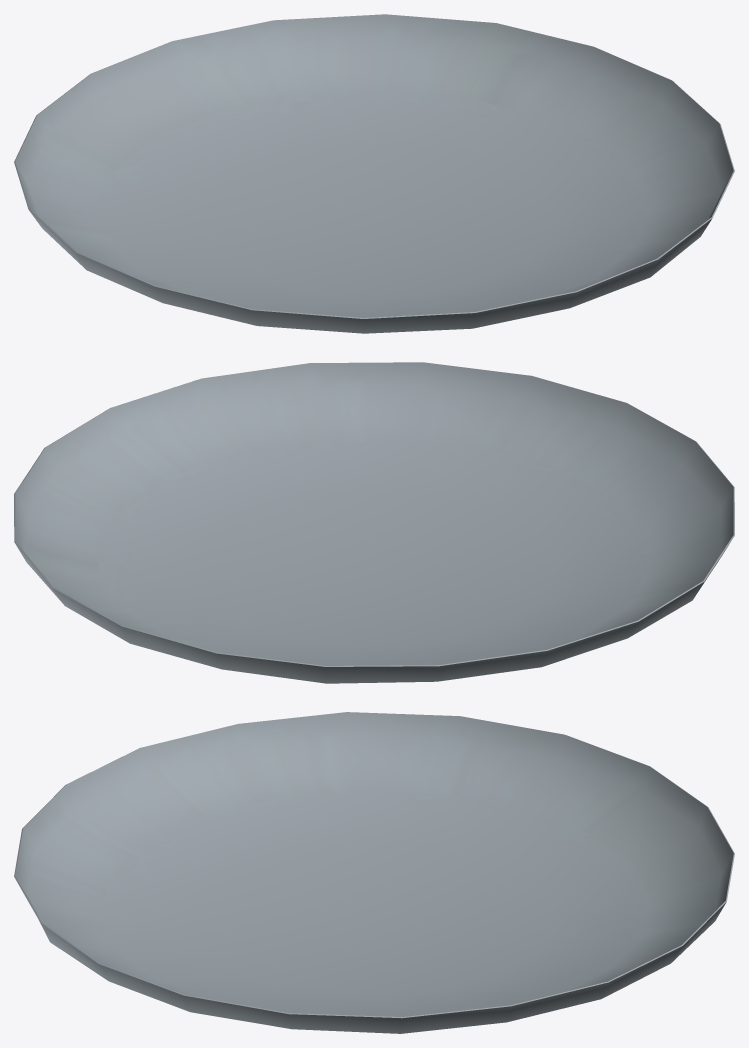
Rendered from FanHuiCang-DiBan.FBX.
The picture shows the model from 3 angles, top to bottom: view 1: azimuth 30°, elevation 25°; view 2: azimuth 150°, elevation 25°; view 3: azimuth 270°, elevation 25°; orthographic projection.
Parts seen in each view (by area): view 1: FanHuiCang-DiBan; view 2: FanHuiCang-DiBan; view 3: FanHuiCang-DiBan.
Boxes of the visible parts, bbox=[...] form: FanHuiCang-DiBan: bbox=[14, 14, 734, 333]; FanHuiCang-DiBan: bbox=[14, 362, 734, 683]; FanHuiCang-DiBan: bbox=[14, 712, 734, 1033].
Bounding box in the file's own units: 79.42 × 7.88 × 79.06.
